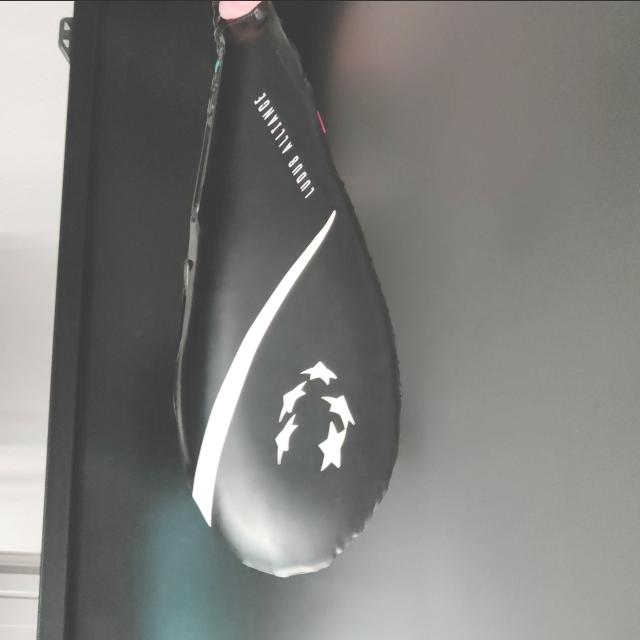paddle: (169, 0, 407, 582)
